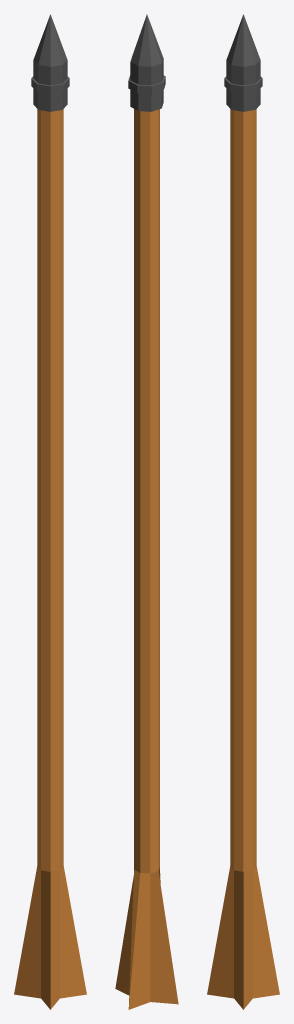
File: Arrow_01.fbx
3 views of the same model, side by side, from view 1: azimuth 90°, elevation 25°; view 2: azimuth 150°, elevation 25°; view 3: azimuth 270°, elevation 25° (orthographic).
Parts seen in each view (by area): view 1: Arrow_01; view 2: Arrow_01; view 3: Arrow_01.
Boxes of the visible parts, x1,y1,x2,y2 form: Arrow_01: (14,14,86,1009); Arrow_01: (115,14,178,1009); Arrow_01: (207,14,279,1009).
Bounding box in the file's own units: 4.45 × 65.97 × 4.45.
